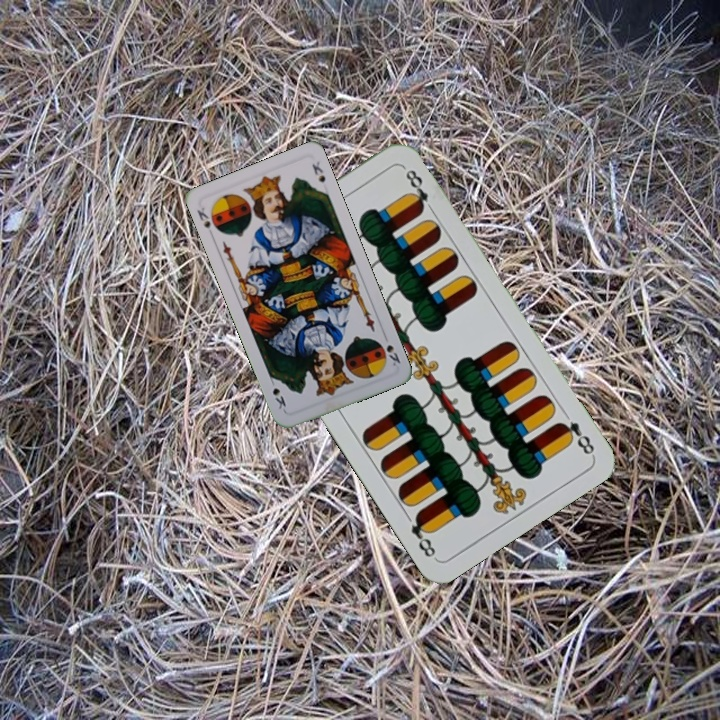E8: (554, 417, 597, 458)
SK: (193, 203, 222, 240), (375, 338, 403, 369)
